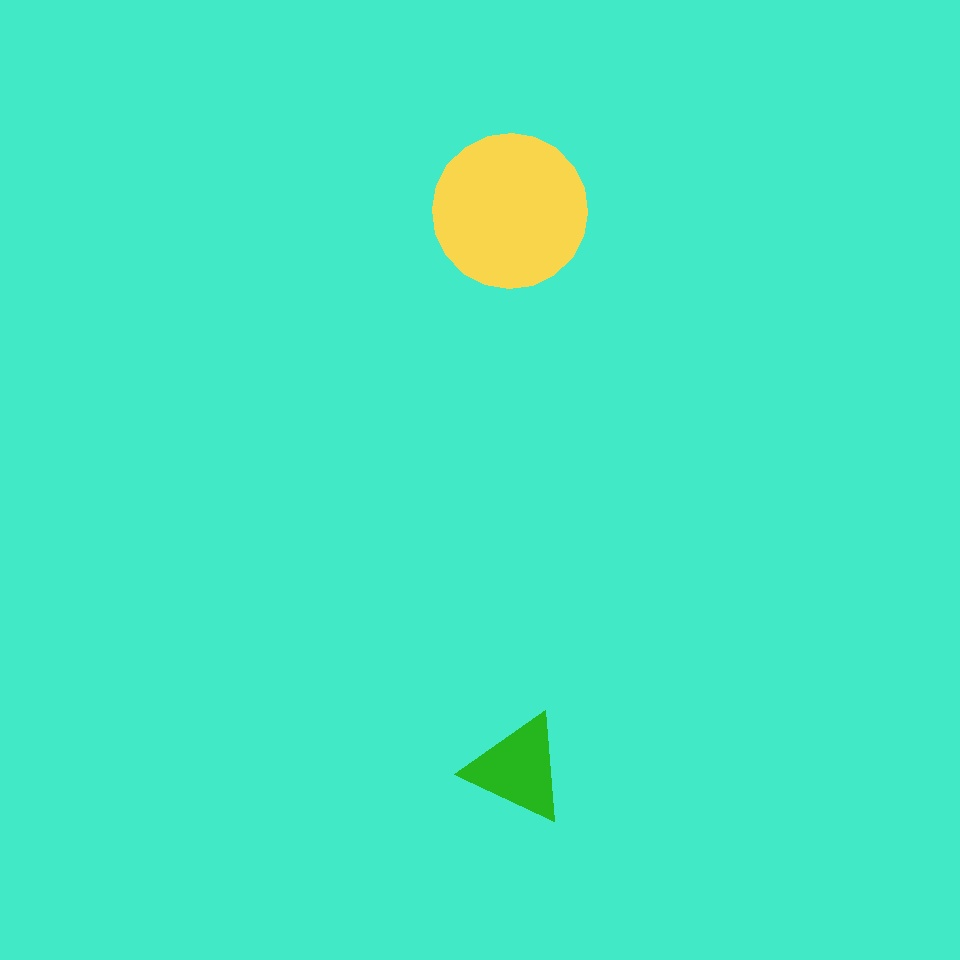circle: (342, 198, 534, 417), (468, 714, 568, 824)
square: (162, 314, 479, 631)
triangle: (164, 135, 539, 510), (99, 427, 385, 713), (432, 133, 588, 288)
